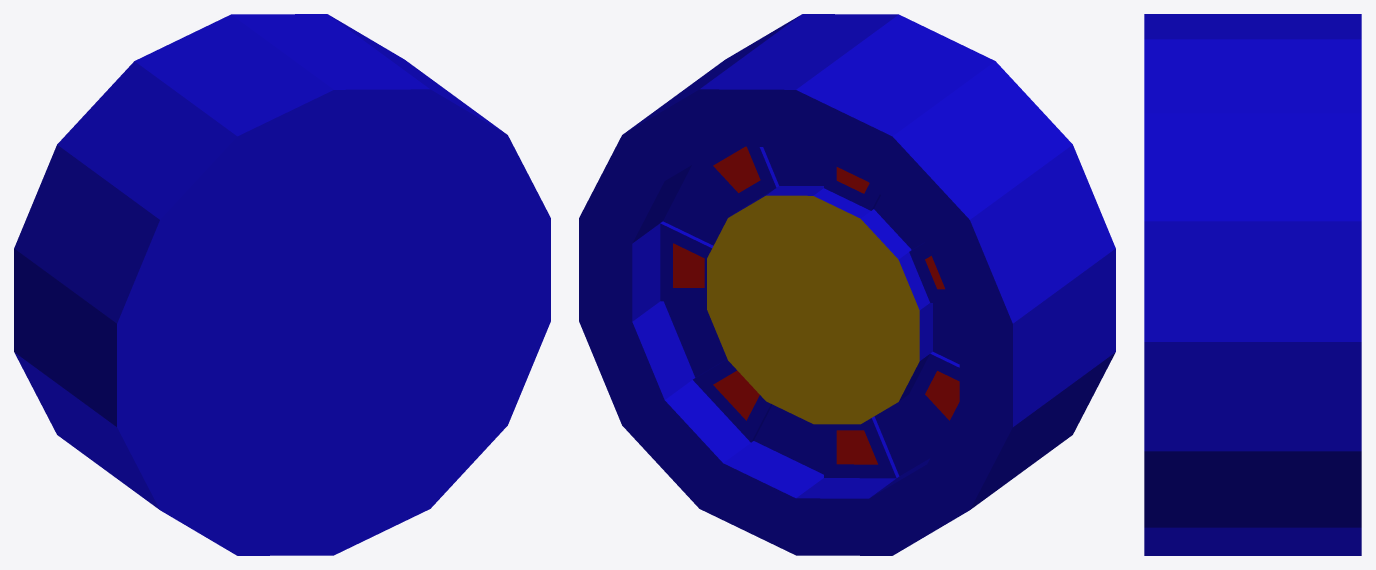
Rendered from car_1_wheel.obj.
The picture shows the model from 3 angles, left to right: view 1: azimuth 30°, elevation 25°; view 2: azimuth 150°, elevation 25°; view 3: azimuth 270°, elevation 25°; orthographic projection. The views are drawn at different scales.
Parts seen in each view (by area): view 1: Cylinder; view 2: Cylinder; view 3: Cylinder.
Boxes of the visible parts, box(x1,y1,x2,y2) form: Cylinder: box(14, 14, 550, 555); Cylinder: box(579, 14, 1115, 555); Cylinder: box(1144, 14, 1361, 555).
Bounding box in the file's own units: 0.9184 × 0.942 × 0.3777.
